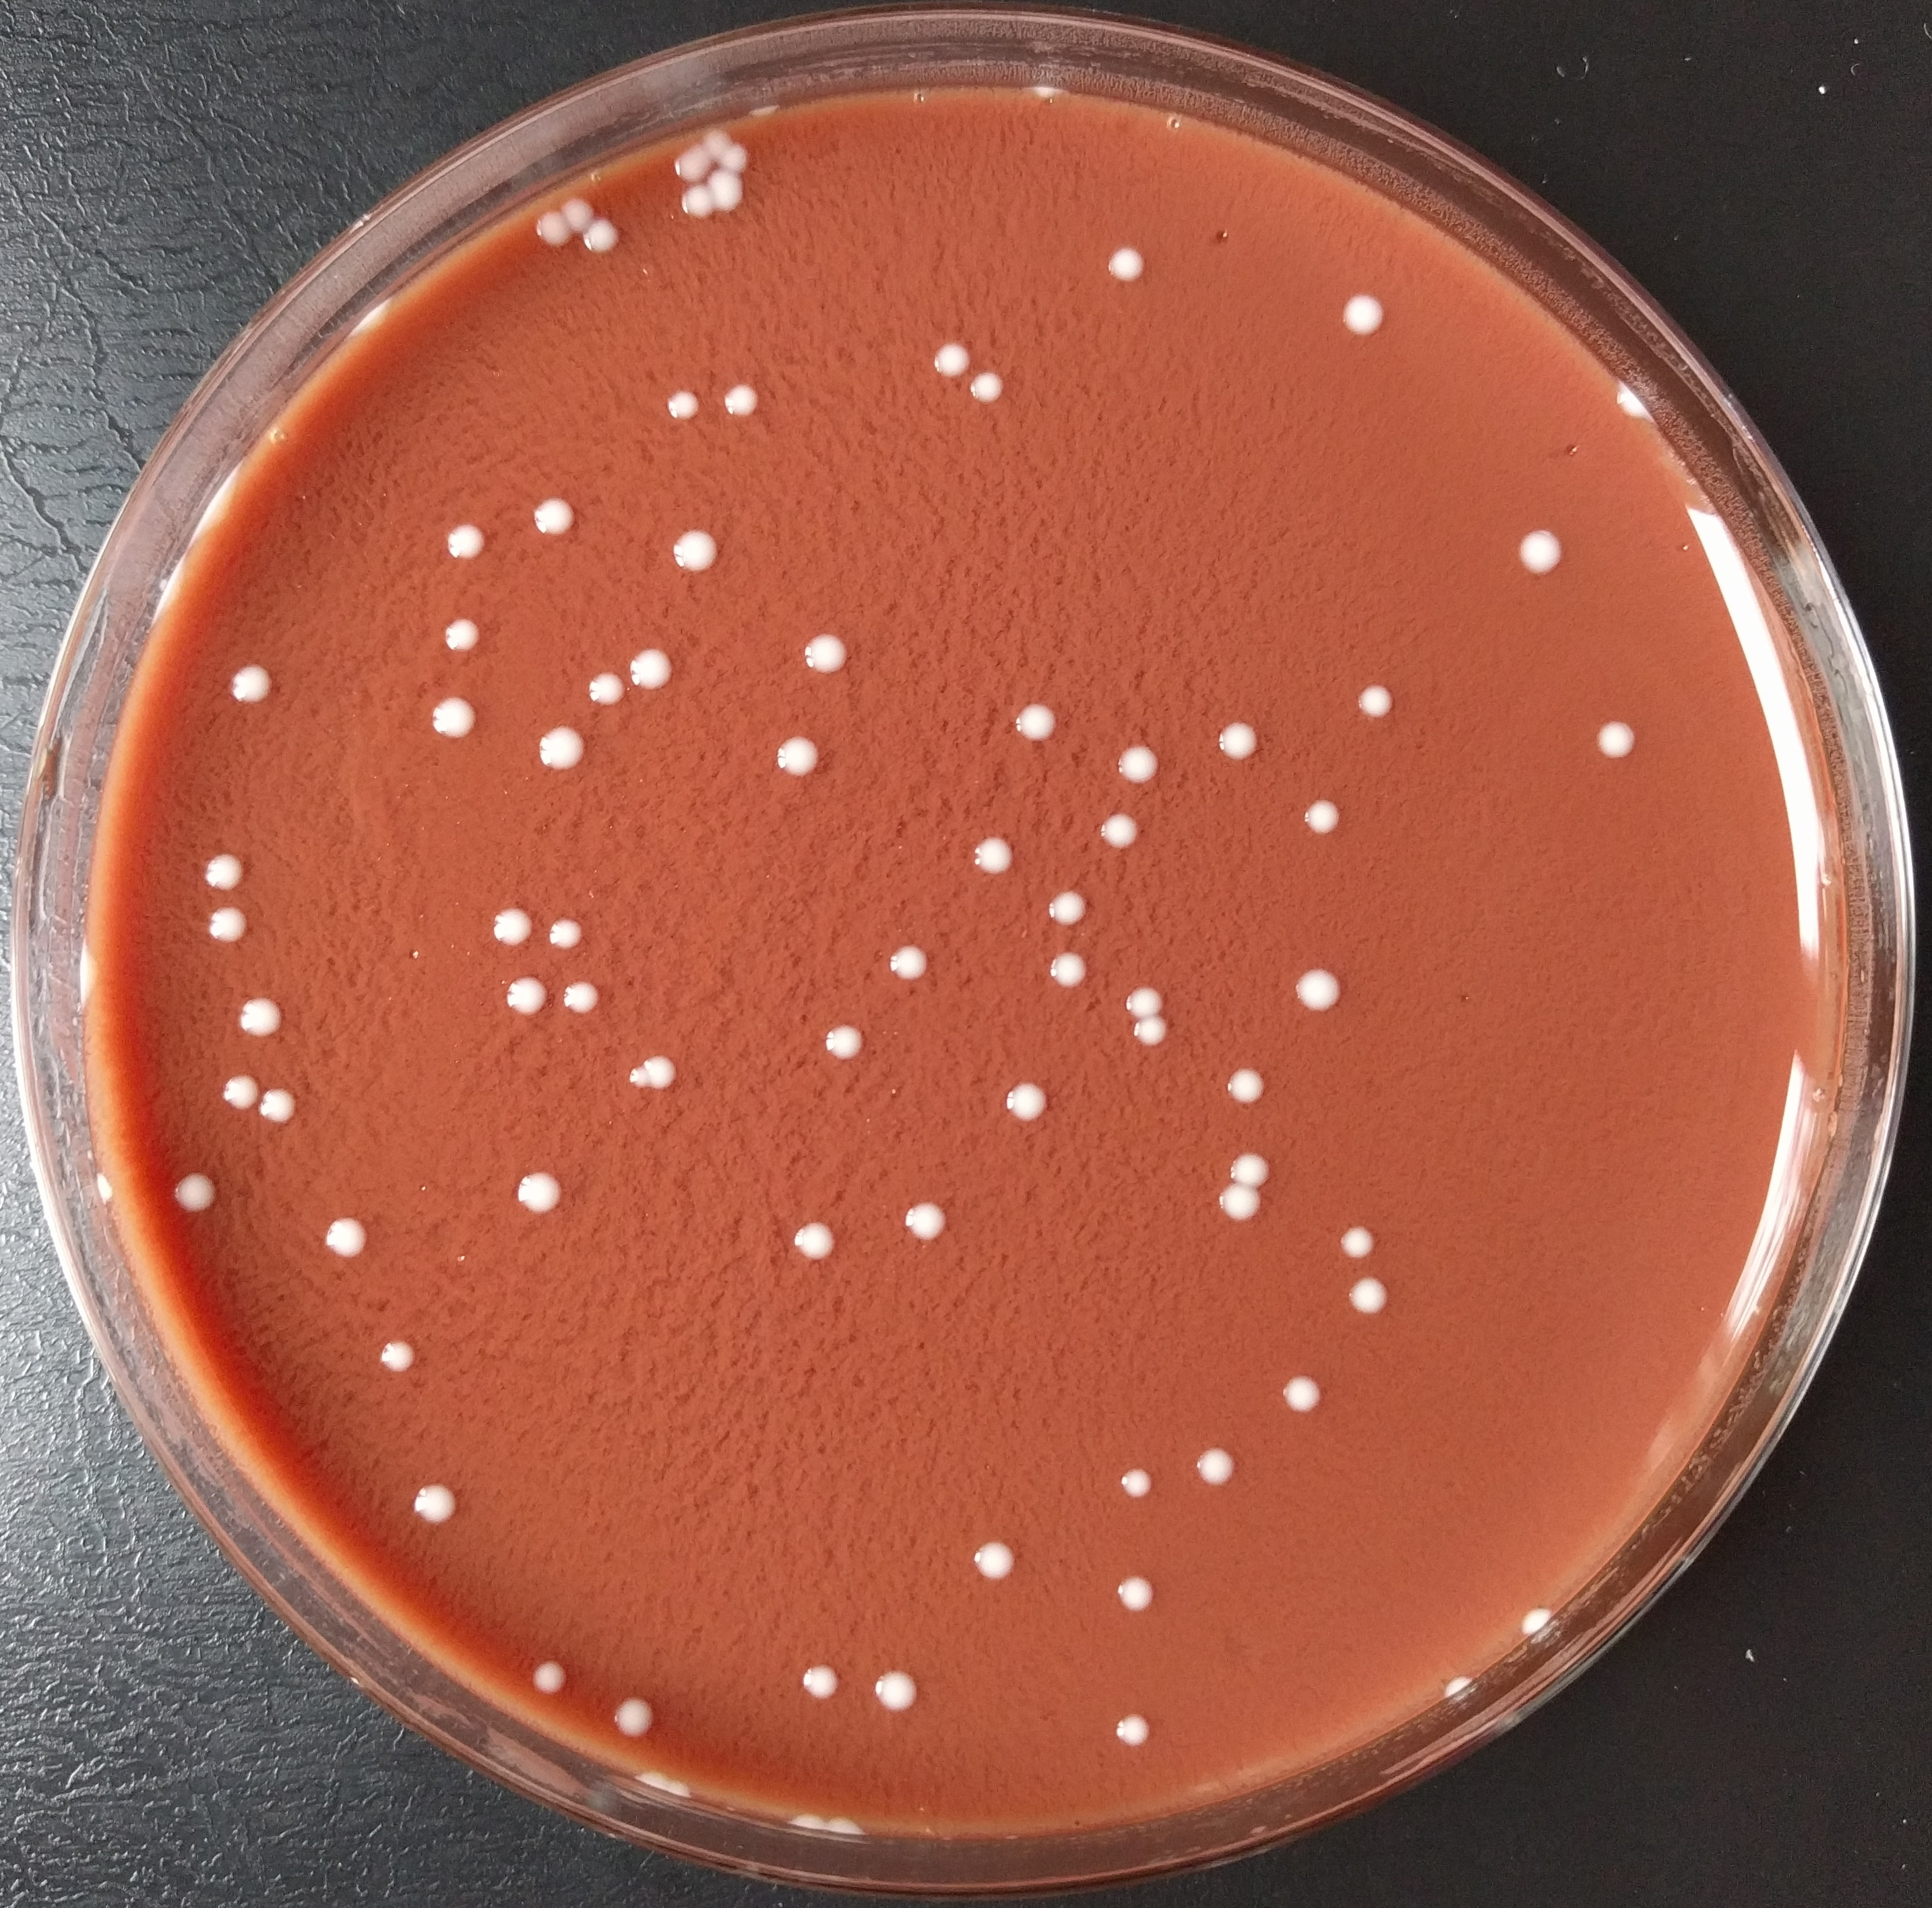sp12: (1474, 507, 1593, 596), (185, 442, 252, 559), (982, 687, 1076, 758), (599, 1679, 674, 1754), (1209, 708, 1287, 779), (1275, 944, 1350, 1015), (400, 1469, 472, 1545), (519, 1646, 594, 1718), (500, 1153, 578, 1221), (1102, 1690, 1170, 1763), (1597, 369, 1665, 442), (138, 543, 189, 641), (164, 1153, 227, 1232), (416, 507, 487, 575), (316, 1200, 388, 1269), (779, 1209, 861, 1269), (1212, 1054, 1287, 1118), (667, 507, 728, 585), (533, 720, 611, 781), (863, 1646, 924, 1725), (484, 900, 552, 968), (622, 627, 687, 699), (213, 660, 288, 722), (526, 477, 582, 559), (709, 154, 767, 229), (1095, 1564, 1174, 1618), (1272, 1356, 1333, 1424), (790, 1649, 851, 1718), (1345, 664, 1417, 722), (342, 283, 400, 355), (260, 1064, 318, 1134), (893, 1186, 957, 1248), (770, 720, 831, 785), (423, 690, 487, 751), (363, 1330, 428, 1391), (952, 826, 1027, 879), (1308, 774, 1357, 854), (1029, 881, 1097, 938), (547, 970, 615, 1027), (1340, 271, 1390, 348), (197, 900, 262, 959), (430, 613, 501, 666), (210, 1061, 262, 1129), (639, 1029, 687, 1104), (1099, 1457, 1174, 1504), (976, 1513, 1027, 1583), (797, 624, 858, 681), (197, 833, 259, 891), (1116, 966, 1170, 1031), (875, 940, 943, 991), (1088, 804, 1148, 861), (1195, 1436, 1244, 1504), (1106, 730, 1170, 781), (533, 900, 590, 956), (812, 1013, 873, 1064), (956, 367, 1024, 412), (1340, 1270, 1404, 1317), (227, 994, 292, 1041), (673, 175, 732, 225), (1336, 1213, 1397, 1262), (1492, 1592, 1556, 1637), (573, 667, 631, 718), (1226, 1143, 1280, 1195), (669, 135, 725, 185), (1003, 1068, 1057, 1118), (912, 341, 971, 386), (1212, 1183, 1280, 1221), (536, 201, 587, 252), (1127, 1017, 1177, 1068), (1102, 238, 1156, 285), (1591, 716, 1646, 762), (777, 1800, 835, 1842), (1039, 951, 1104, 987), (650, 377, 704, 421), (500, 977, 557, 1017), (1436, 1662, 1485, 1707), (580, 215, 634, 255), (91, 1158, 121, 1230), (1020, 72, 1078, 108), (557, 180, 597, 232), (716, 381, 763, 425), (716, 131, 762, 166), (84, 935, 101, 1017), (613, 1057, 648, 1097), (629, 1759, 676, 1789), (826, 1810, 865, 1840), (671, 1773, 706, 1801), (702, 121, 721, 156)
